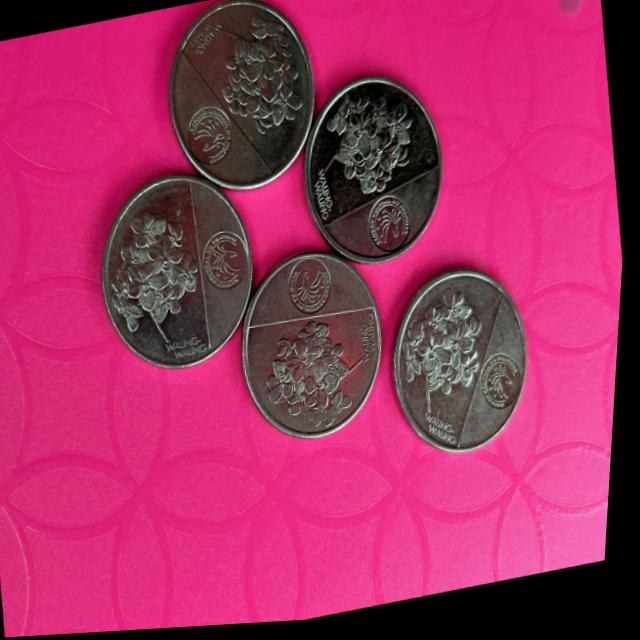1_New_Back: (395, 290, 500, 426), (255, 323, 366, 450), (308, 88, 420, 211), (208, 22, 310, 147)
